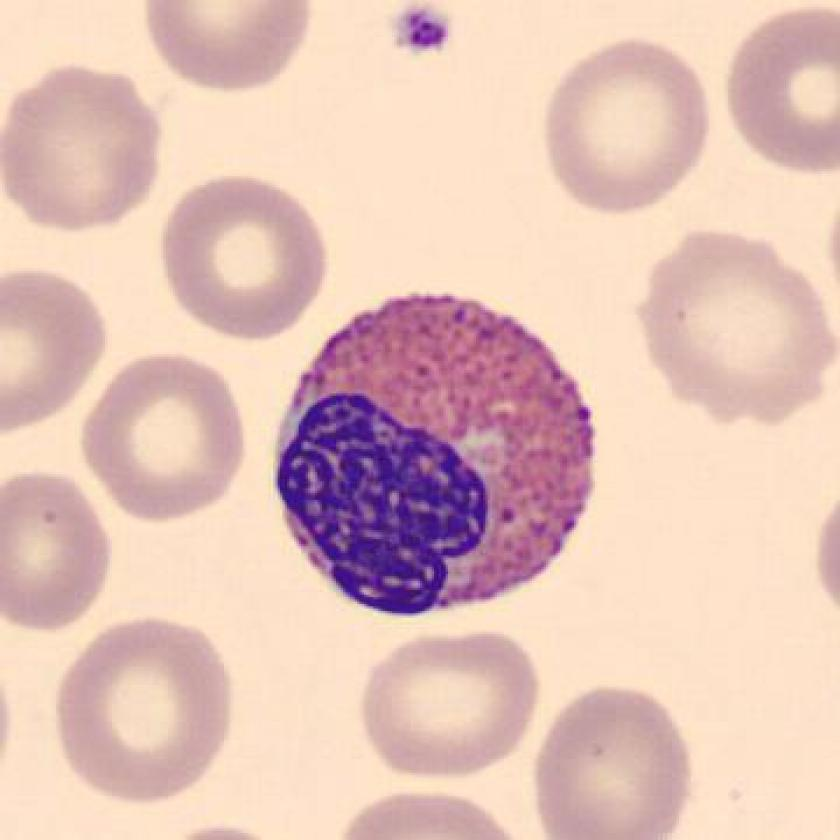eosinophil: (262, 284, 608, 631)
